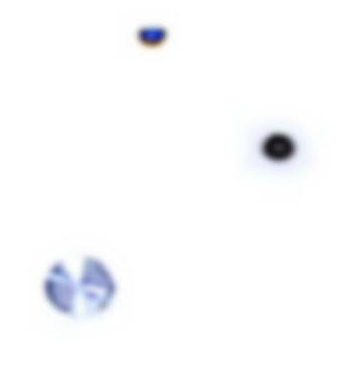abnormal: (23, 242, 142, 332)
cancer: (234, 107, 321, 188)
normal: (120, 11, 191, 66)
